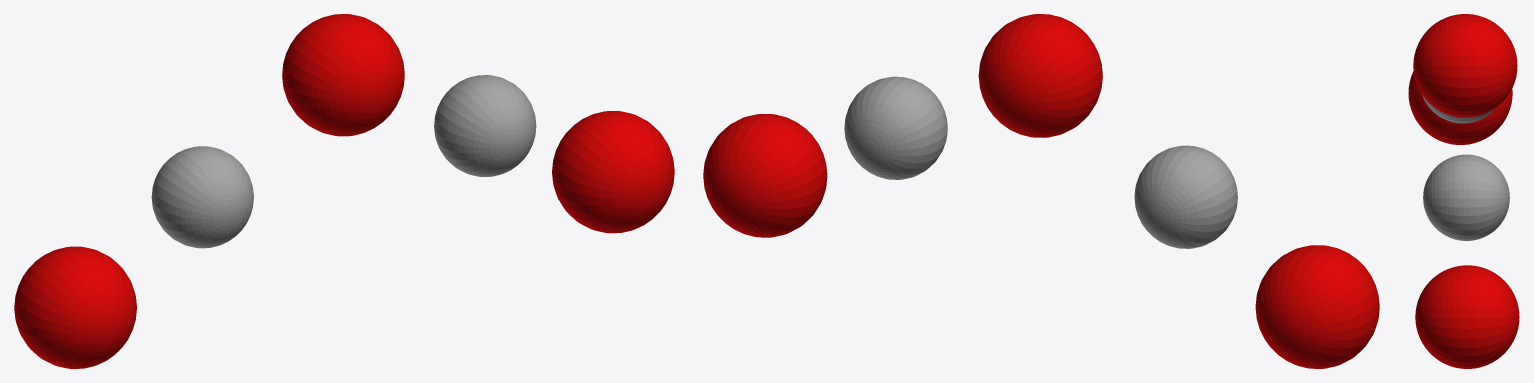
Rendered from Aluminum Oxide.glb.
The picture shows the model from 3 angles, left to right: view 1: azimuth 30°, elevation 25°; view 2: azimuth 150°, elevation 25°; view 3: azimuth 270°, elevation 25°; orthographic projection. The views are drawn at different scales.
Parts seen in each view (by area): view 1: world; view 2: world; view 3: world.
Boxes of the visible parts, x1,y1,x2,y2 form: world: (14, 14, 674, 368); world: (703, 14, 1379, 368); world: (1408, 14, 1519, 368).
Bounding box in the file's own units: 7.31 × 2.97 × 1.28.
